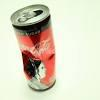can: (10, 4, 65, 97)
